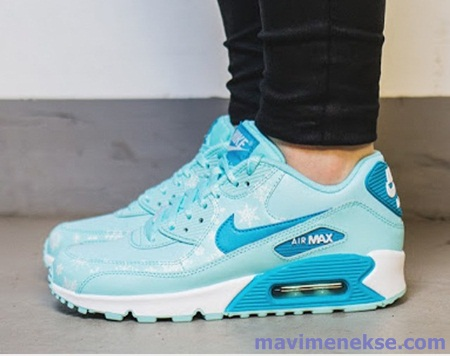nike: (215, 208, 329, 254)
